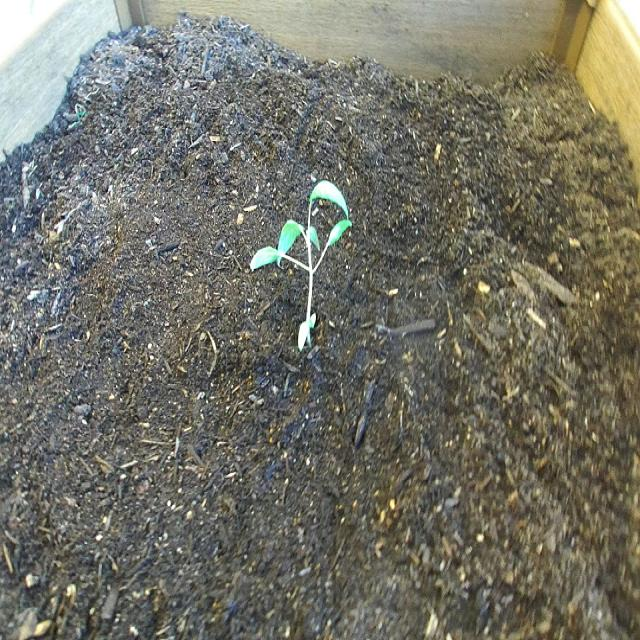Healthy: (246, 175, 360, 358)
